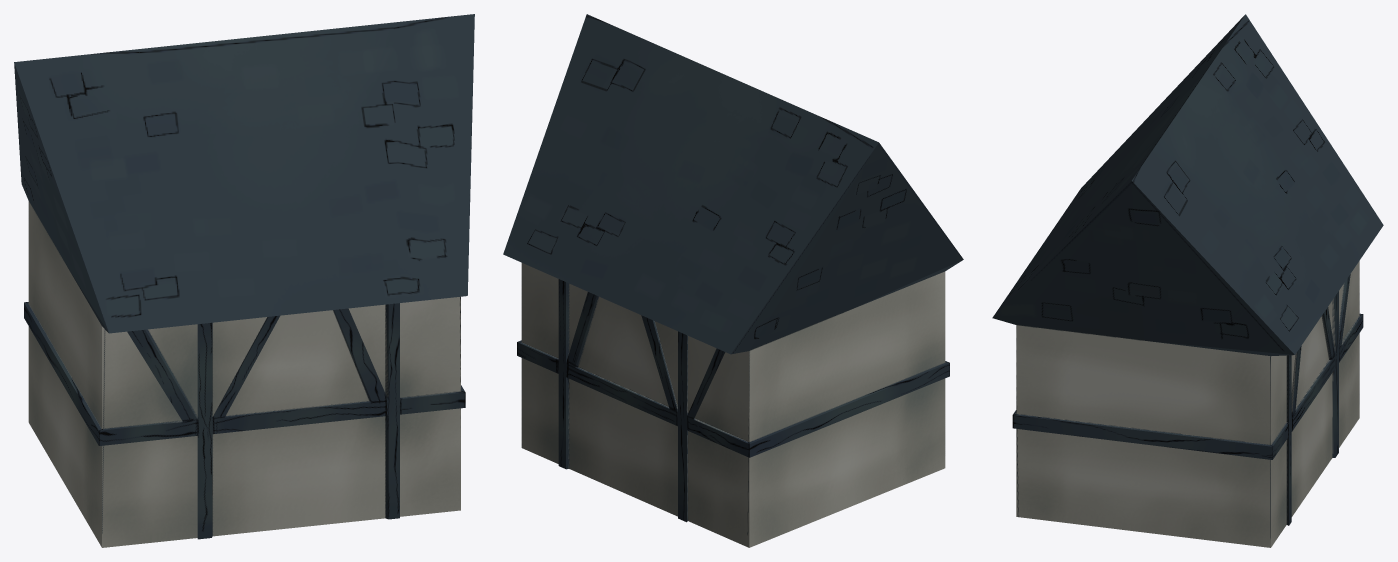
The model's file is House2_2.fbx.
3 views of the same model, side by side, from view 1: azimuth 30°, elevation 25°; view 2: azimuth 150°, elevation 25°; view 3: azimuth 270°, elevation 25° (orthographic). The views are drawn at different scales.
Visible parts, largest first — view 1: house02_proper1; view 2: house02_proper1; view 3: house02_proper1.
Part boxes in pixels (x1,y1,x2,y2): house02_proper1: (14,14,474,547); house02_proper1: (503,14,963,547); house02_proper1: (992,14,1383,547).
Bounding box in the file's own units: 620 × 642 × 615.
